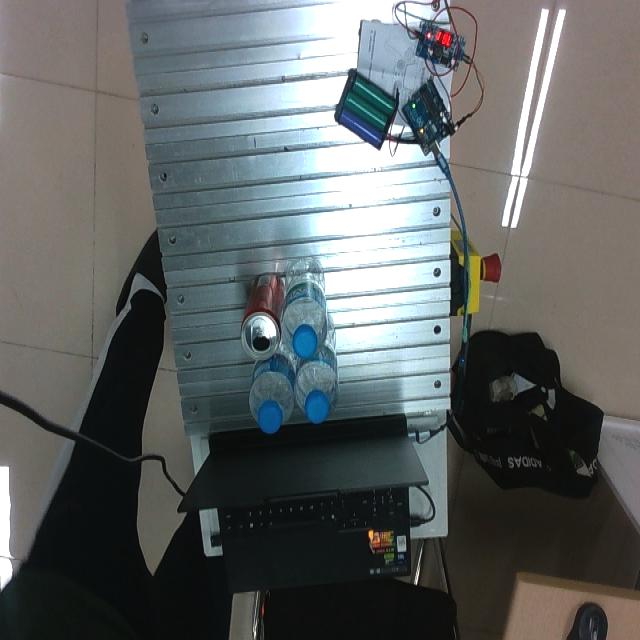coca: (241, 273, 285, 360)
lavie: (295, 313, 340, 424), (282, 259, 329, 361), (249, 348, 296, 433)
